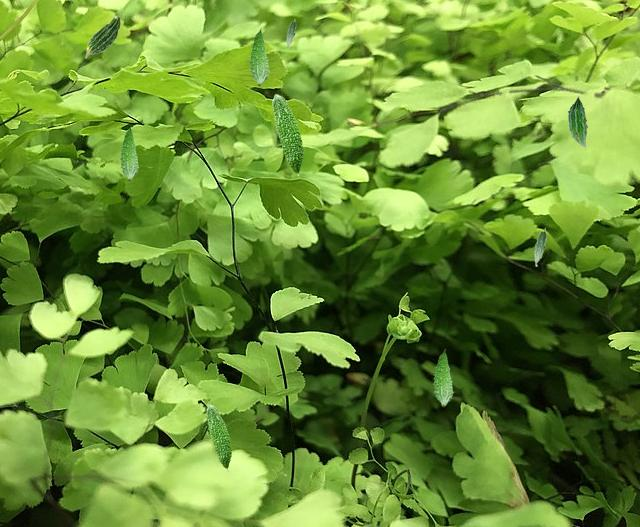ampalaya: (272, 93, 304, 177), (206, 404, 232, 471), (84, 15, 121, 58), (432, 348, 454, 407), (248, 27, 270, 86), (119, 125, 139, 181), (567, 95, 588, 148), (534, 227, 547, 267), (286, 18, 296, 49)
